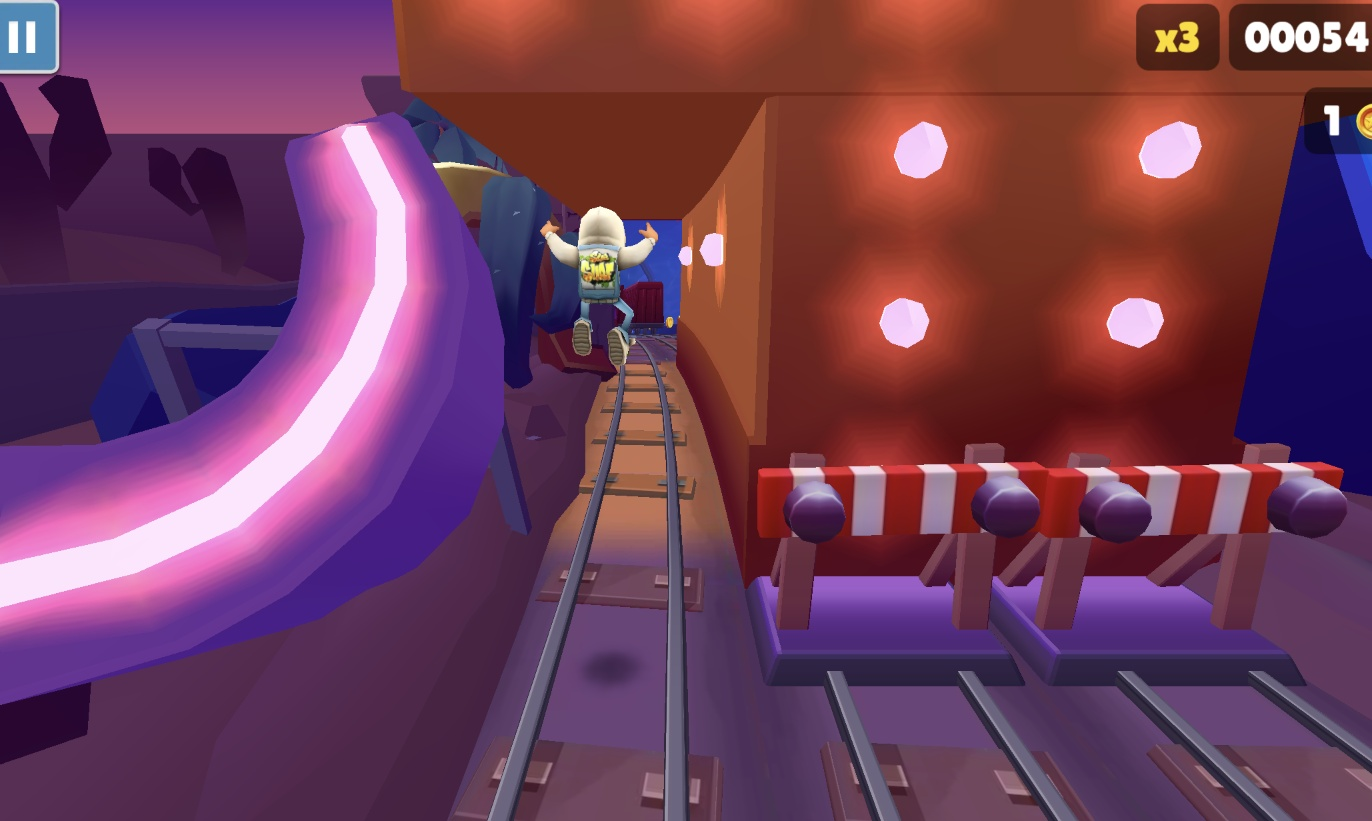ground_barrier: (950, 443, 1372, 687), (737, 448, 1081, 690)
pillar: (675, 91, 1372, 472)
train: (618, 282, 662, 339)
